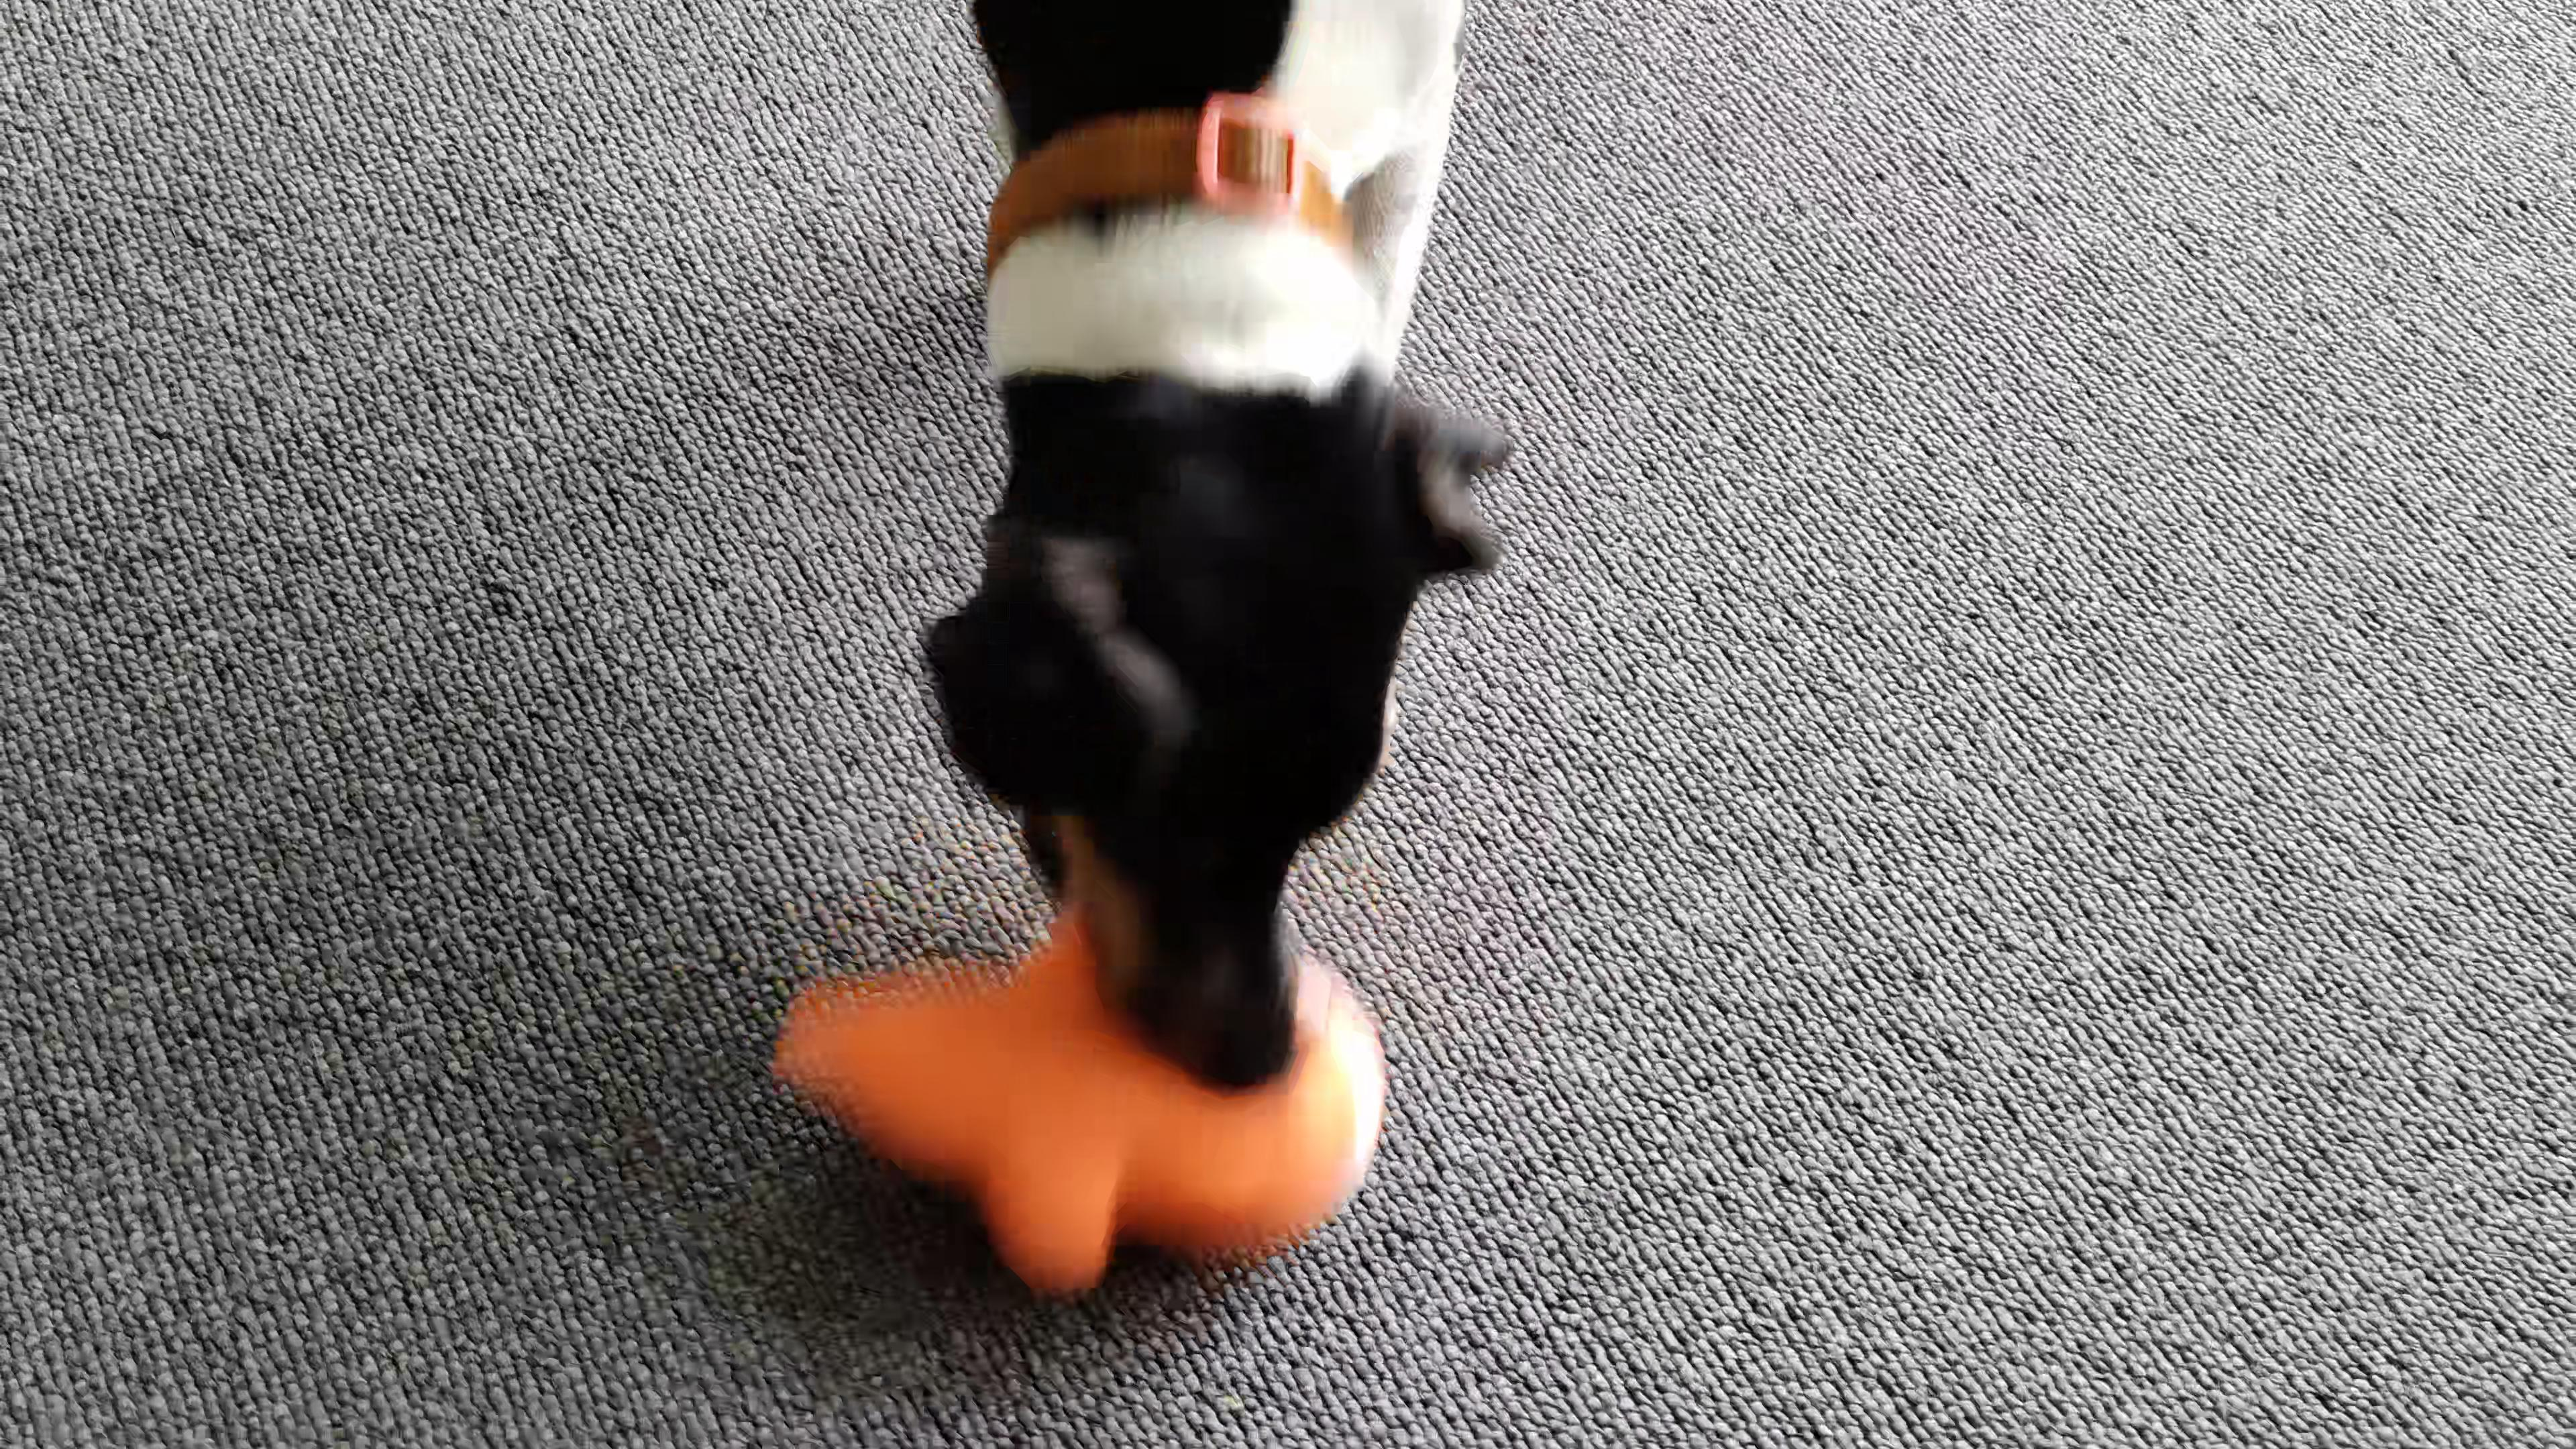Dog: (892, 0, 1530, 1097)
